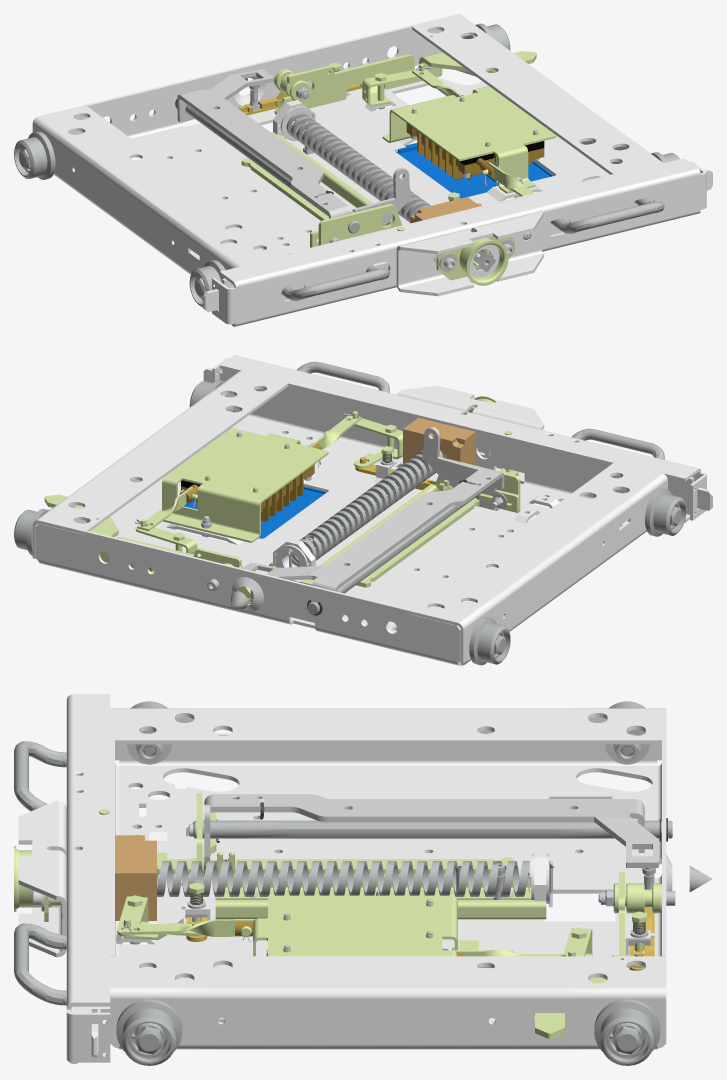
Rendered from 11.1_vyykatnaya-telezhka-dpc-4-650.glb.
3 renders of one model, top to bottom at view 1: azimuth 30°, elevation 25°; view 2: azimuth 150°, elevation 25°; view 3: azimuth 270°, elevation 25°, orthographic. The views are drawn at different scales.
Parts seen in each view (by area): view 1: 11.1_vykatnaya-telezhka-dpc-4-650; view 2: 11.1_vykatnaya-telezhka-dpc-4-650; view 3: 11.1_vykatnaya-telezhka-dpc-4-650.
Boxes of the visible parts, x1,y1,x2,y2 form: 11.1_vykatnaya-telezhka-dpc-4-650: [14, 14, 712, 326]; 11.1_vykatnaya-telezhka-dpc-4-650: [14, 355, 712, 665]; 11.1_vykatnaya-telezhka-dpc-4-650: [14, 694, 712, 1065].
Bounding box in the file's own units: 0.532 × 0.0728 × 0.4651.
